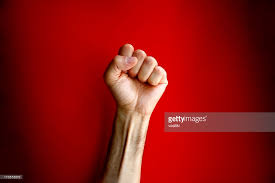fist: (101, 40, 170, 118)
